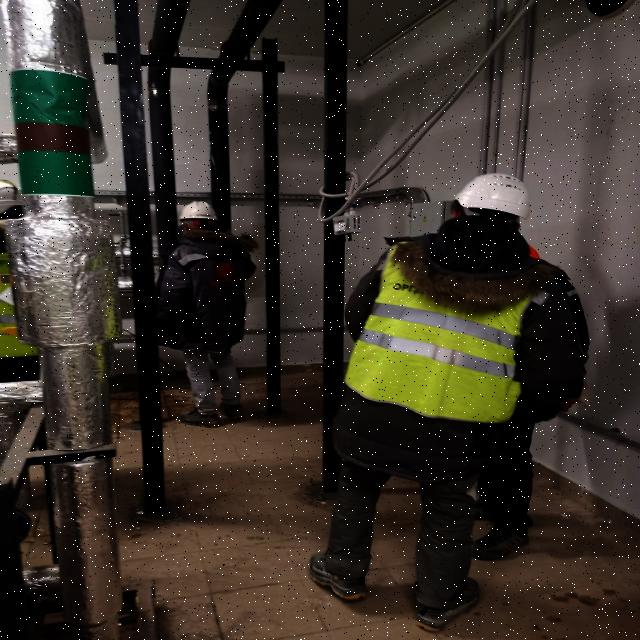Helmet: (457, 173, 531, 219), (178, 201, 220, 228)
Jacket: (377, 234, 543, 414)
NoJacket: (168, 231, 246, 348)
